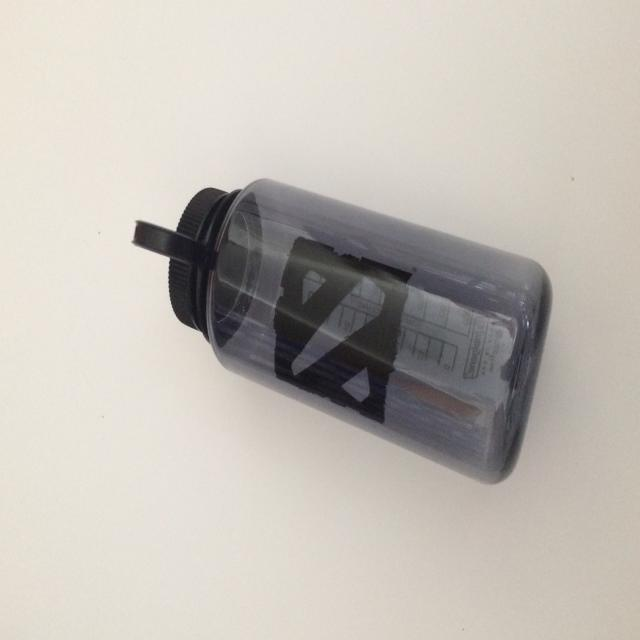plastic: (132, 176, 553, 485)
